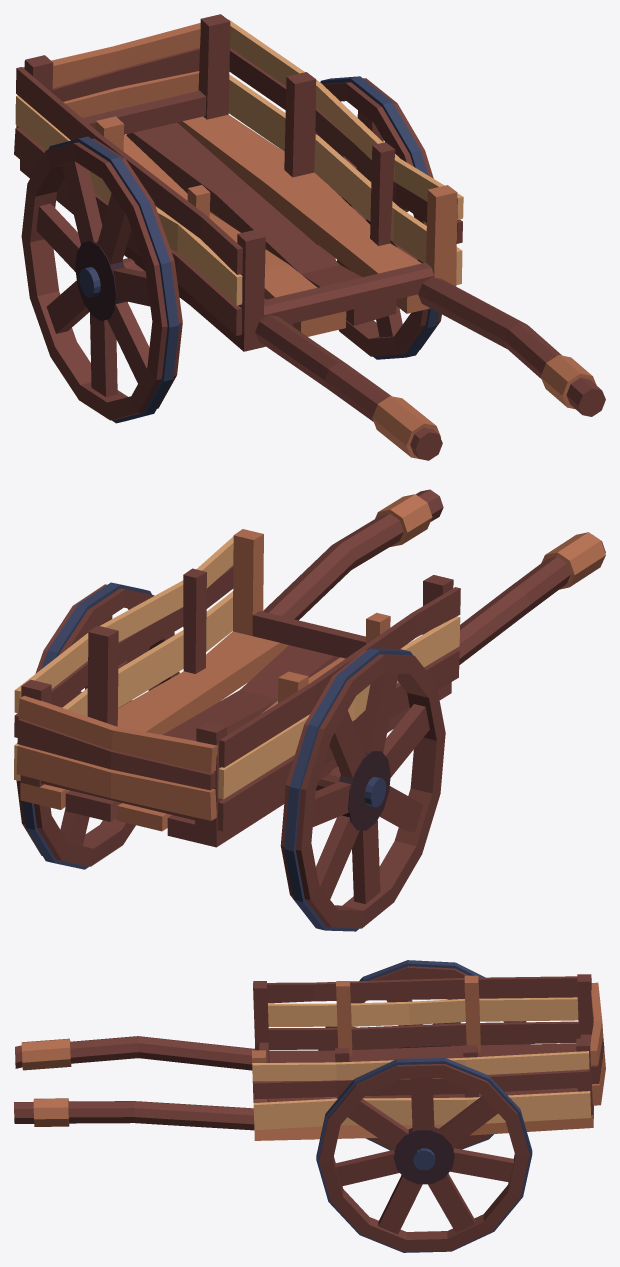
The model's file is WheelCart_01.fbx.
The picture shows the model from 3 angles, top to bottom: view 1: azimuth 30°, elevation 25°; view 2: azimuth 150°, elevation 25°; view 3: azimuth 270°, elevation 25°; orthographic projection. The views are drawn at different scales.
Visible parts, largest first — view 1: WheelCart_01, Wheel_01, Wheel_02; view 2: WheelCart_01, Wheel_01, Wheel_02; view 3: WheelCart_01, Wheel_02, Wheel_01.
Boxes of the visible parts, bbox=[...] form: WheelCart_01: bbox=[14, 14, 605, 460]; Wheel_01: bbox=[21, 136, 182, 423]; Wheel_02: bbox=[315, 76, 441, 359]; WheelCart_01: bbox=[14, 489, 605, 847]; Wheel_01: bbox=[280, 648, 445, 931]; Wheel_02: bbox=[16, 582, 179, 869]; WheelCart_01: bbox=[14, 974, 605, 1140]; Wheel_02: bbox=[316, 1058, 532, 1252]; Wheel_01: bbox=[318, 960, 530, 1150].
Bounding box in the file's own units: 173 × 147 × 405.
